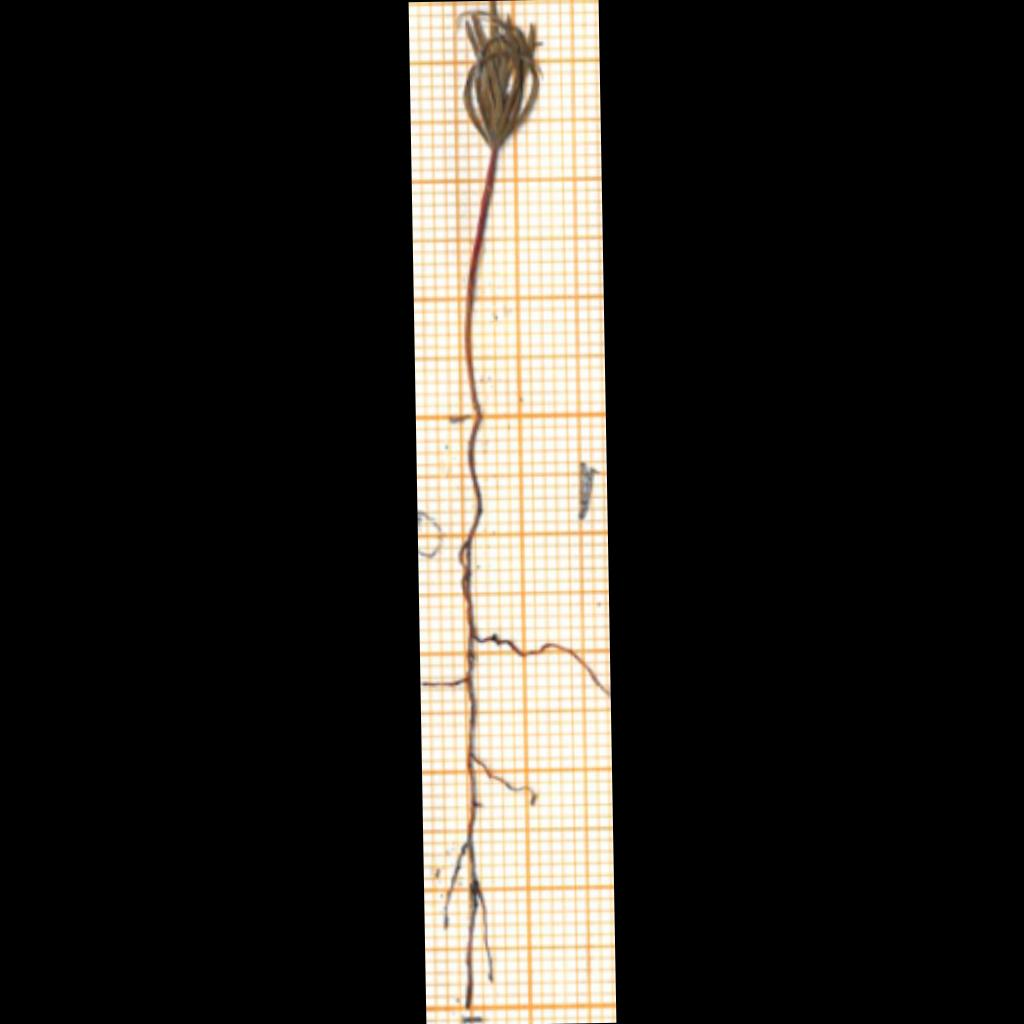flowerPinus: (465, 8, 539, 149)
rootPinus: (443, 430, 610, 1008)
stemPinus: (465, 152, 496, 418)
